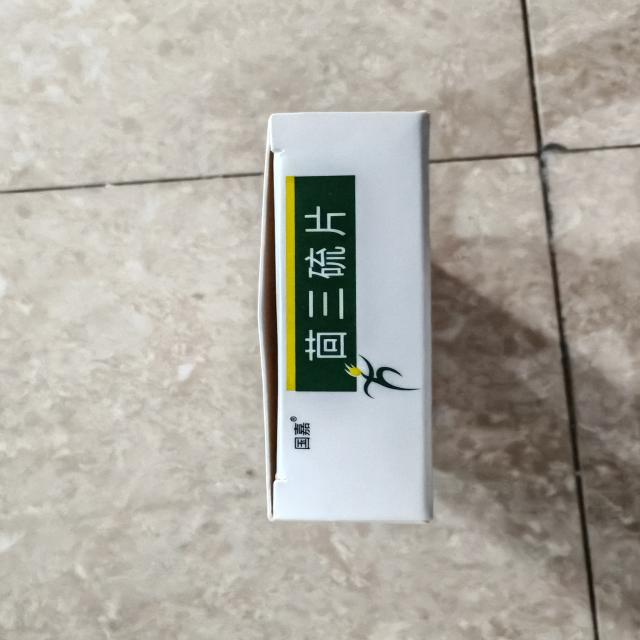box: (250, 104, 447, 537)
